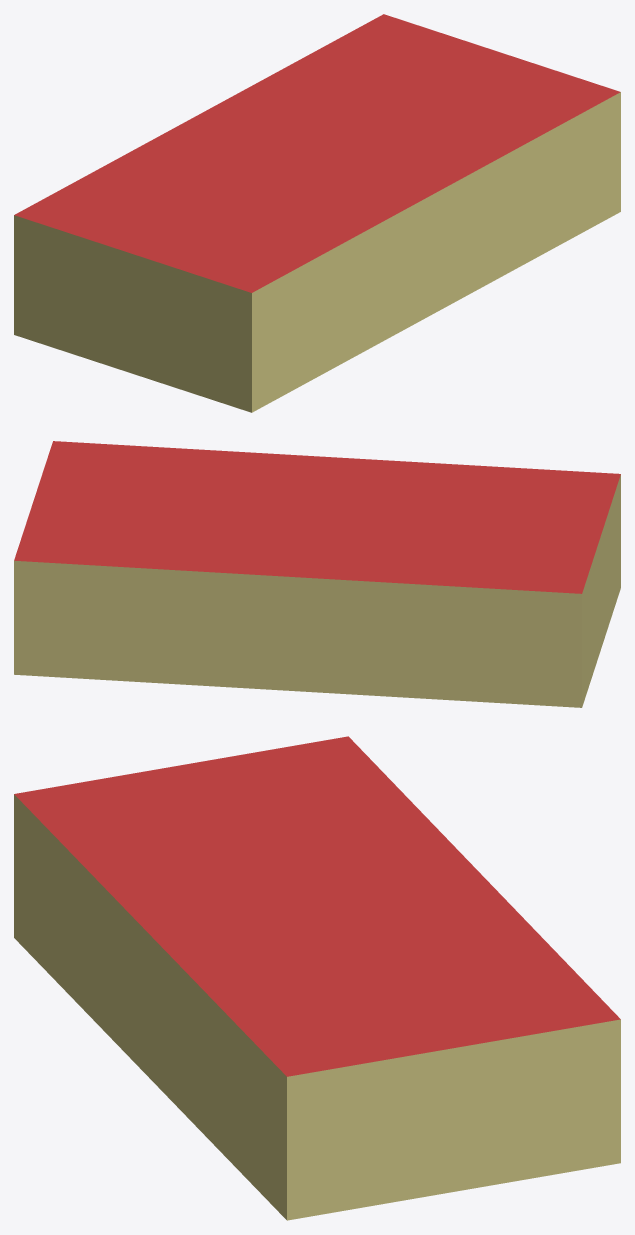
The picture shows the model from 3 angles, top to bottom: view 1: azimuth 30°, elevation 25°; view 2: azimuth 150°, elevation 25°; view 3: azimuth 270°, elevation 25°; orthographic projection. The views are drawn at different scales.
Size of the model in its own units: 22.32 by 16.81 by 4.39.
